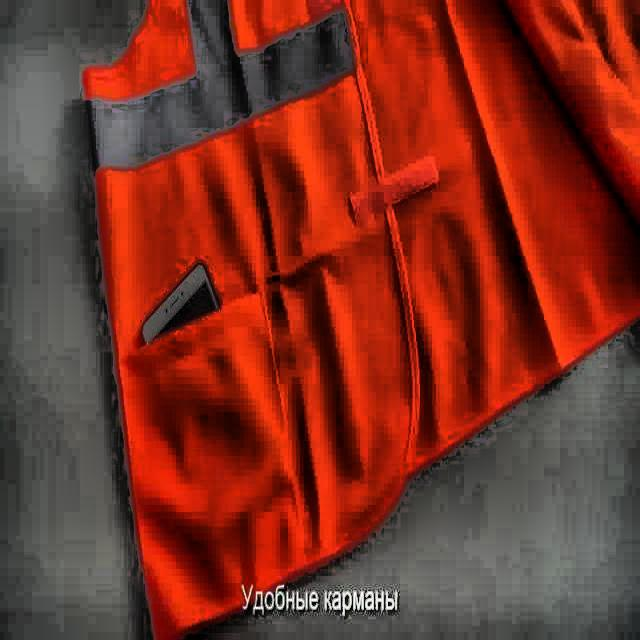safety_jacket: (82, 0, 640, 640)
